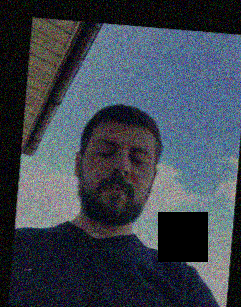without_mask: (80, 133, 152, 226)
